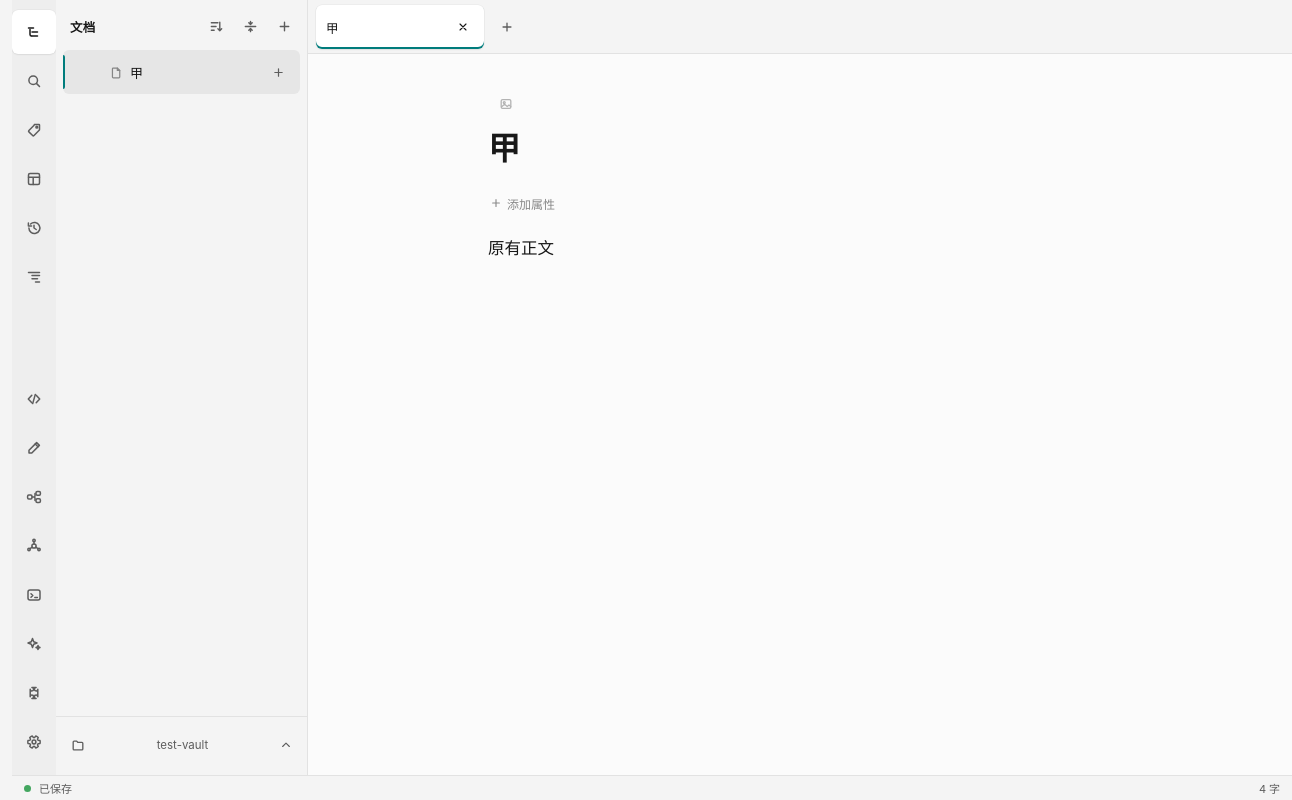
it: 侧栏里的模板面板 › 单击一行打开模板编辑，不会误插进当前笔记
Click the button named "模板". click: coordinates (34, 179)
box: [12,157,56,201]
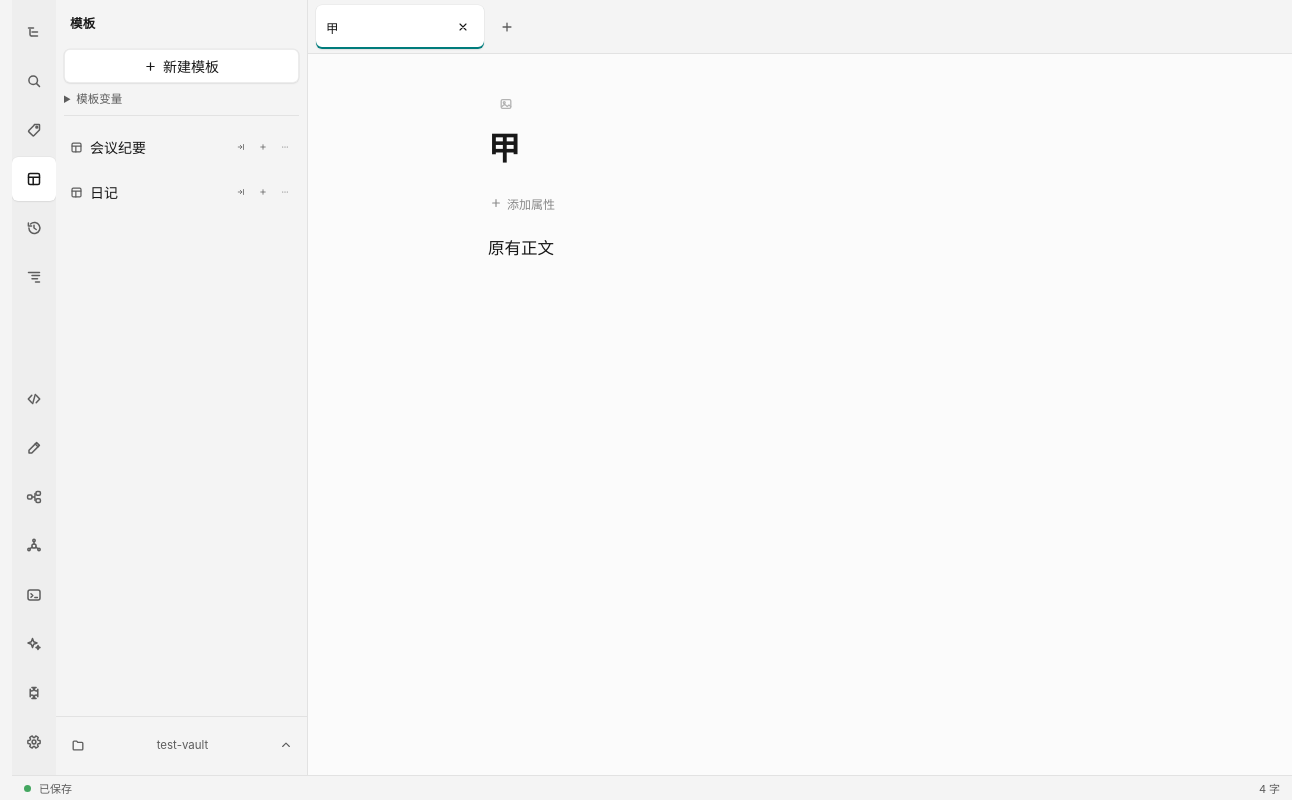
Click the button with class "tpl-name" showing "日记". click: coordinates (148, 192)
box: [64,177,231,207]
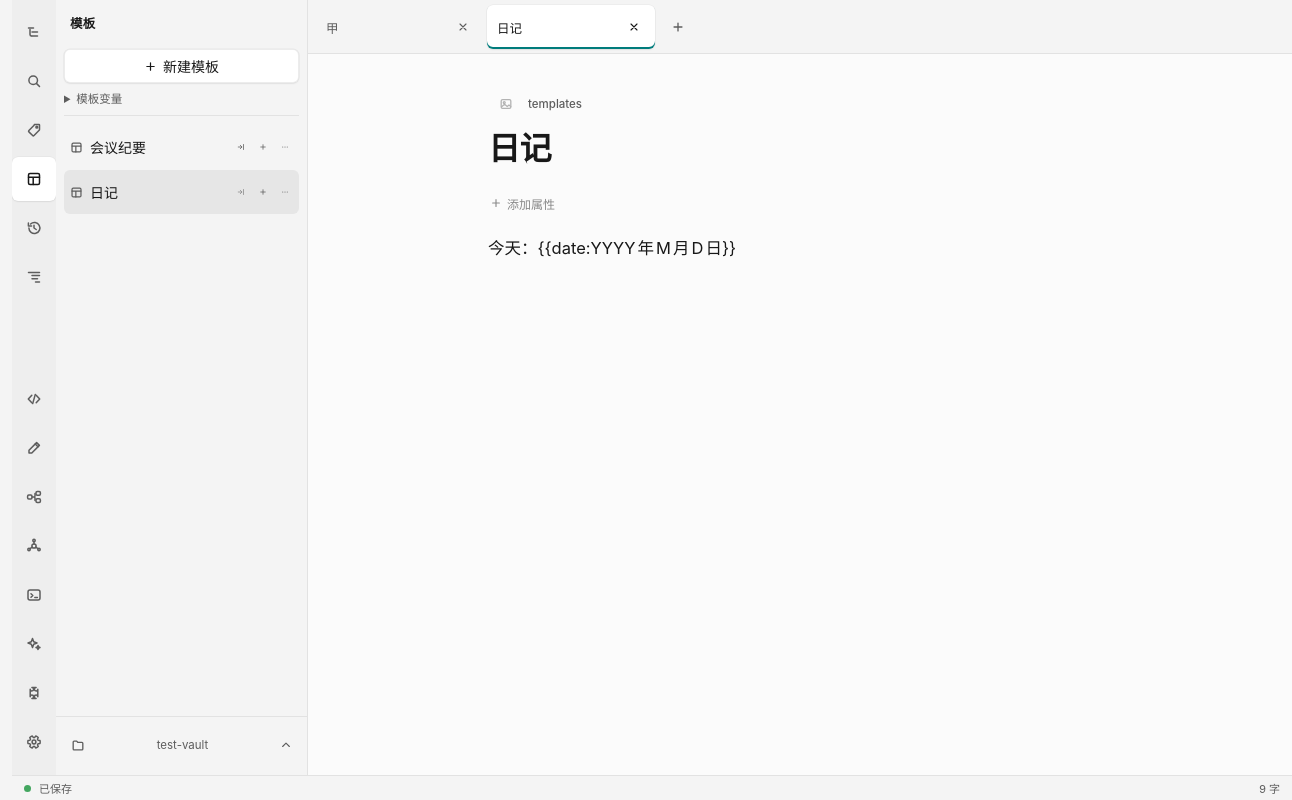
Expected: the text box labelled "今天：{{date:YYYY年M月D日}}" is shown, [488,238,736,258]
